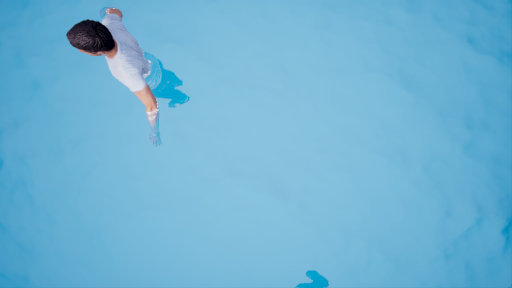person: (66, 6, 202, 151)
